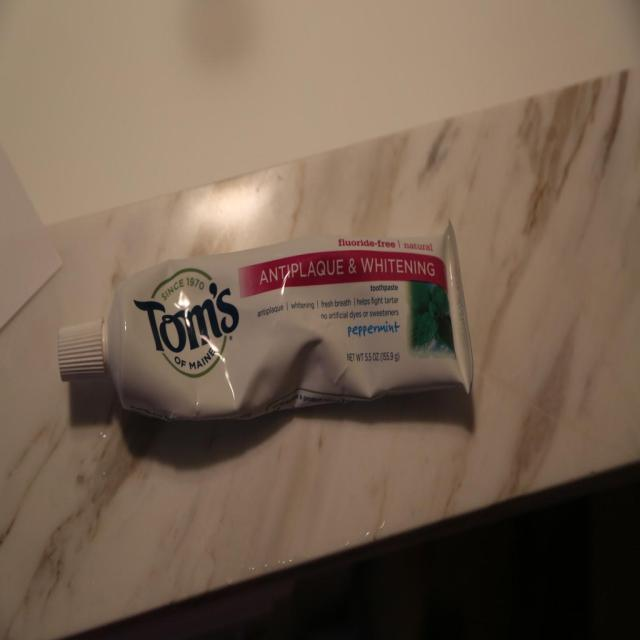Toothpaste: (49, 217, 485, 425)
